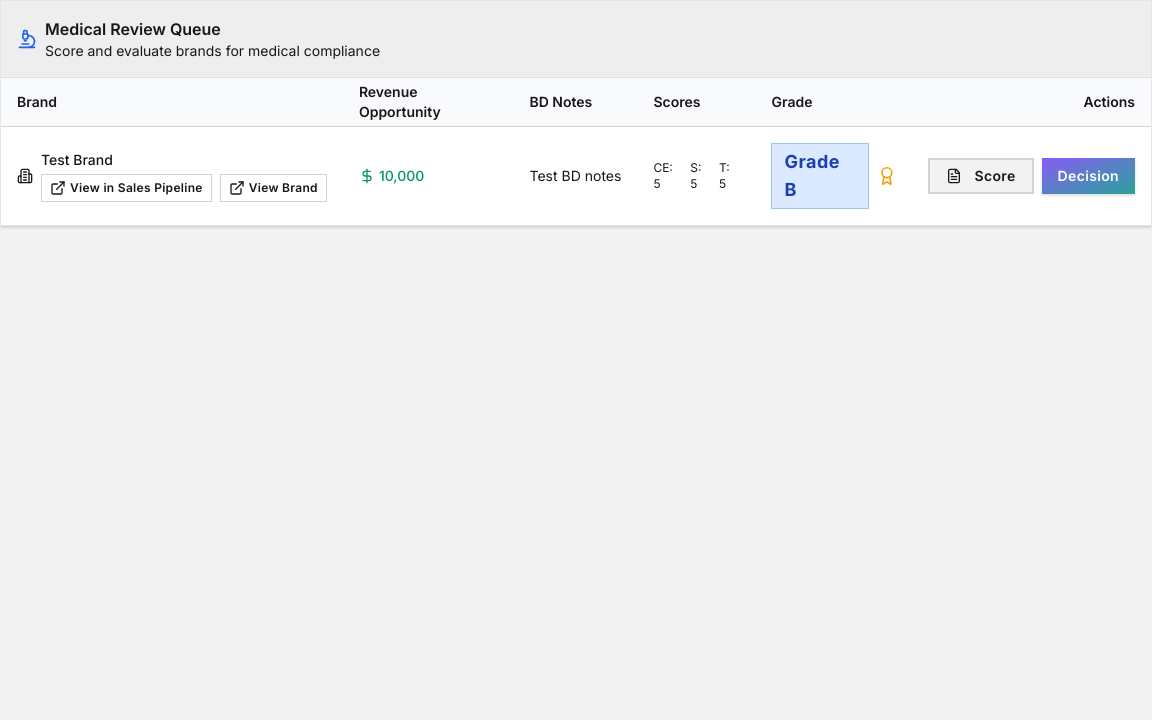
Test: Medical Standards Engine › Final Decision Workflow › BUG: Should have Approve button
// Click the "Decision" button to open the decision dialog
Click the button "Decision": (1088, 176) [1042,158,1135,194]
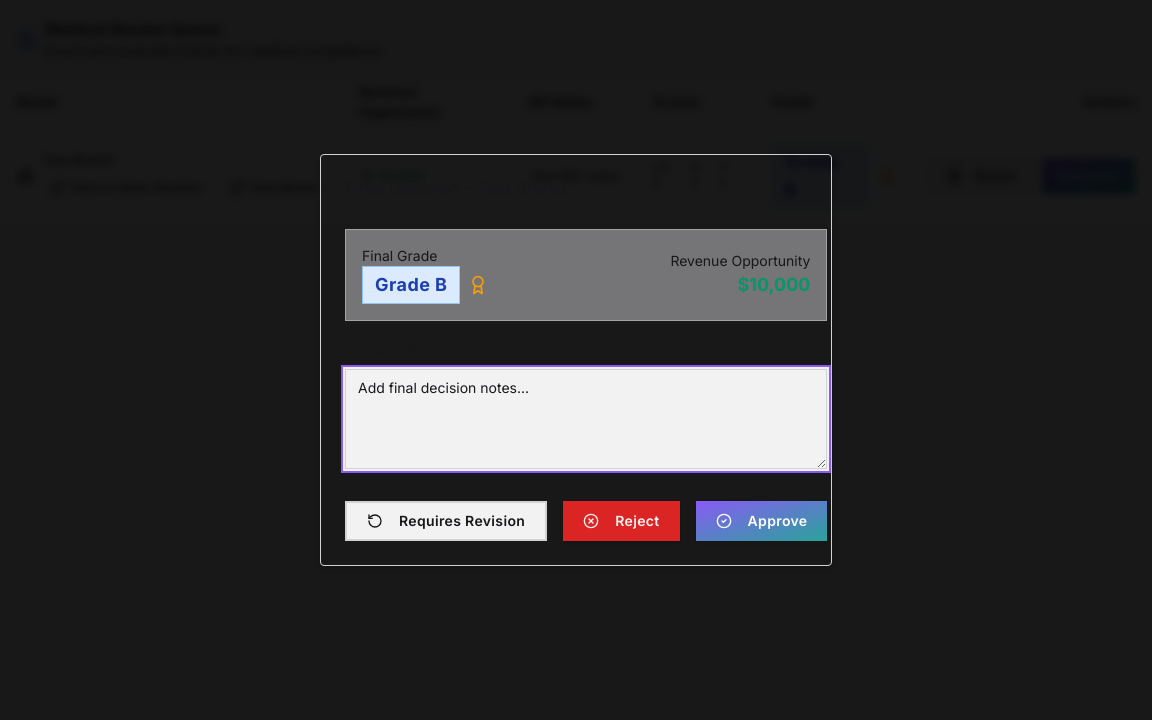
Expected: the button "Approve" is shown, [696,501,828,541]
